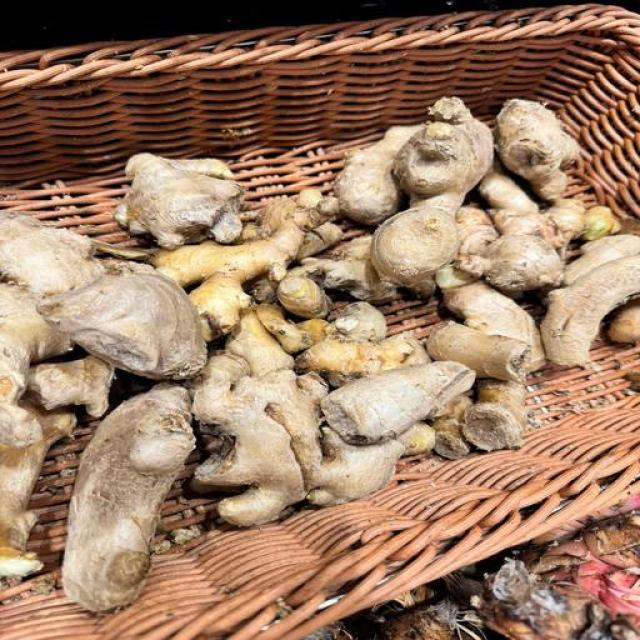organic: (1, 4, 640, 640), (0, 342, 639, 639)
